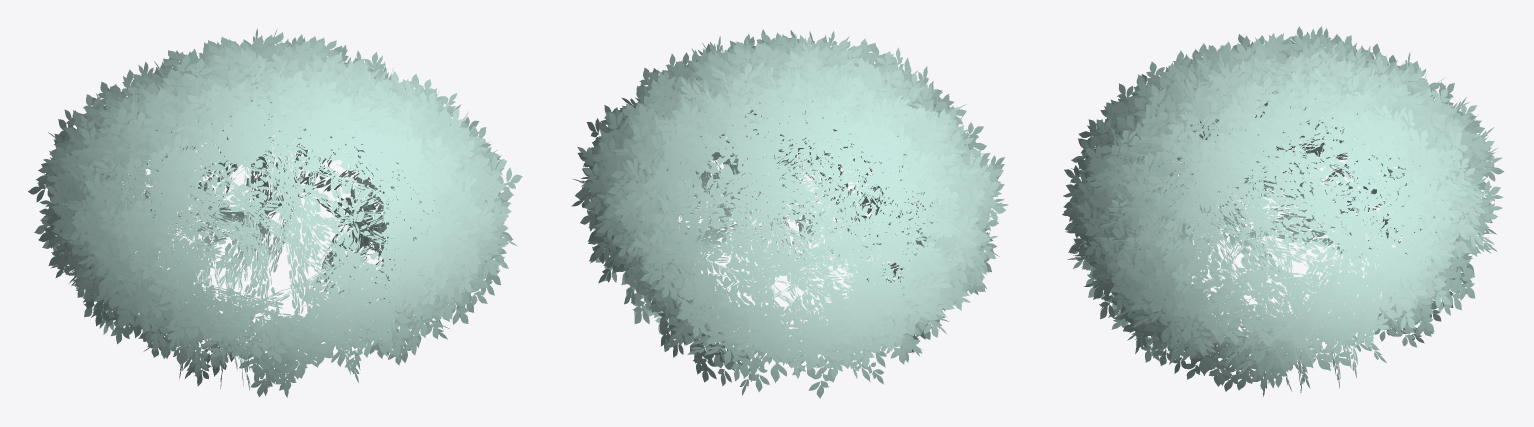
The model's file is bush_troux.fbx.
3 views of the same model, side by side, from view 1: azimuth 30°, elevation 25°; view 2: azimuth 150°, elevation 25°; view 3: azimuth 270°, elevation 25° (orthographic).
Parts seen in each view (by area): view 1: Bush; view 2: Bush; view 3: Bush.
Boxes of the visible parts, box(x1,y1,x2,y2) form: Bush: box(28, 28, 522, 397); Bush: box(571, 29, 1008, 398); Bush: box(1062, 26, 1504, 396).
Bounding box in the file's own units: 250 × 176 × 241.
